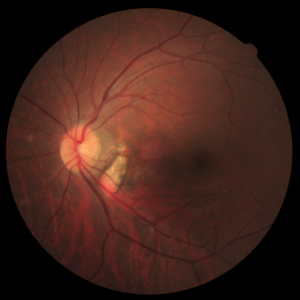retina_disease: (22, 110, 226, 215)
